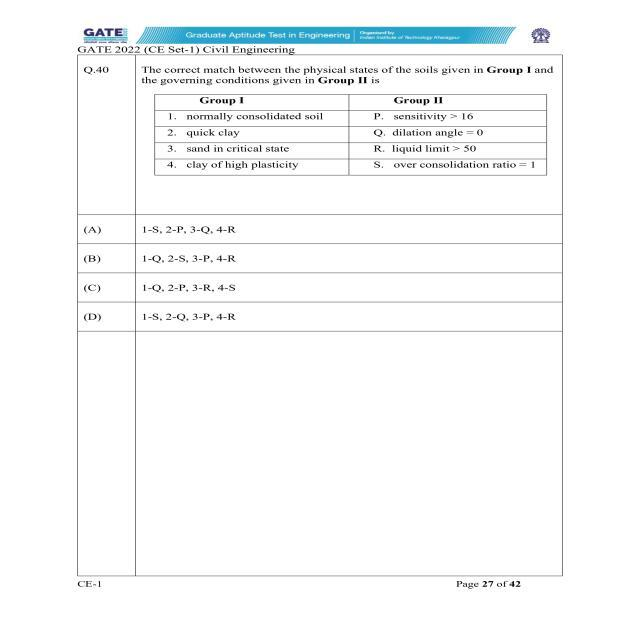Answer_Block: (74, 215, 562, 332)
Question_Answer_Block: (74, 52, 560, 330)
Question_Block: (77, 54, 560, 213)
Question_Paper_Area: (74, 44, 562, 576)
